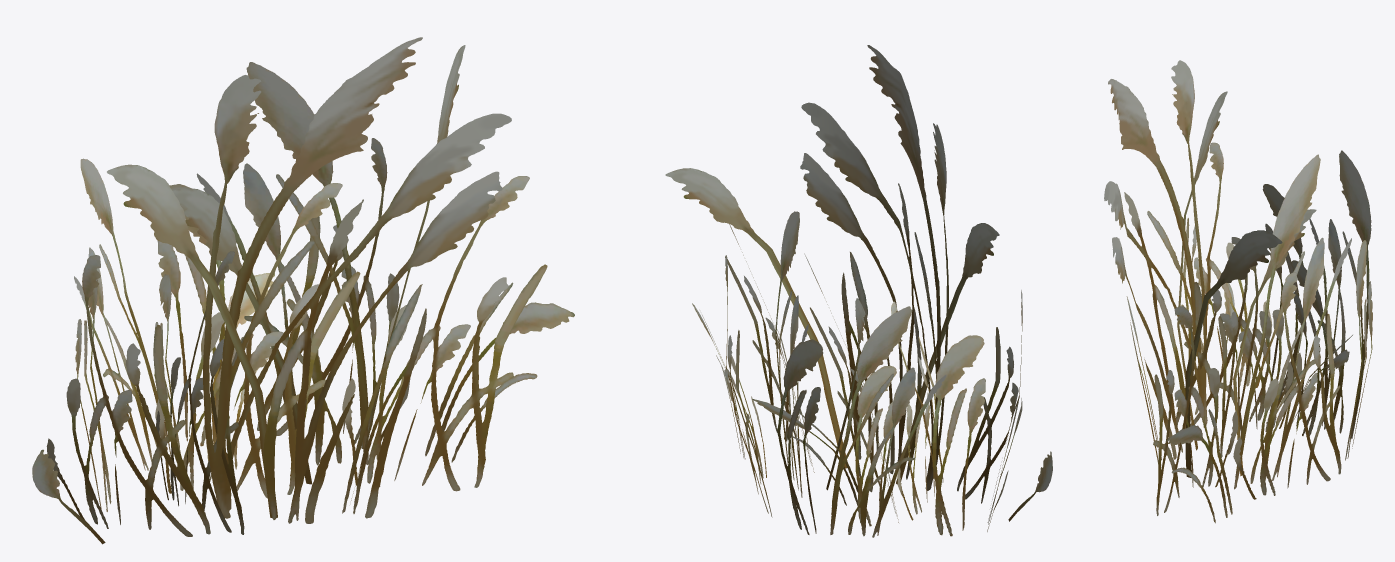
File: luwei_b.FBX
The picture shows the model from 3 angles, left to right: view 1: azimuth 30°, elevation 25°; view 2: azimuth 150°, elevation 25°; view 3: azimuth 270°, elevation 25°; orthographic projection. The views are drawn at different scales.
Parts seen in each view (by area): view 1: luwei_b; view 2: luwei_b; view 3: luwei_b.
Part boxes in pixels (<box>): luwei_b: <box>32,37,574,544</box>; luwei_b: <box>665,45,1052,537</box>; luwei_b: <box>1104,60,1372,523</box>.
Size of the model in its own units: 312 by 277 by 176.
